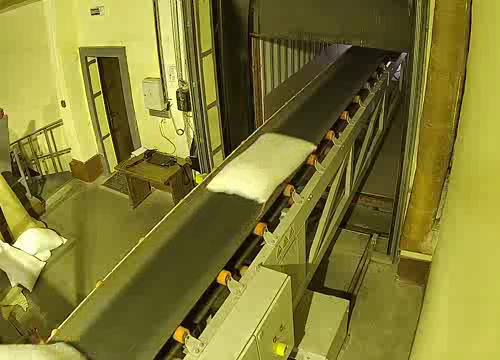bag: (197, 125, 332, 215), (0, 329, 97, 360)
